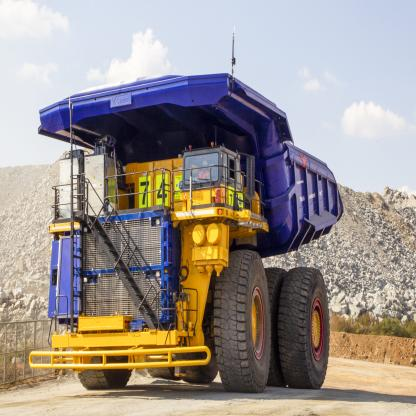dump_truck: (26, 63, 345, 411)
